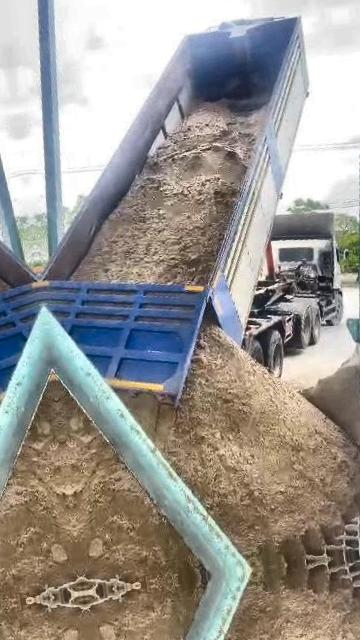sand: (124, 326, 360, 567), (73, 100, 262, 283), (56, 384, 196, 584), (303, 359, 360, 448)
